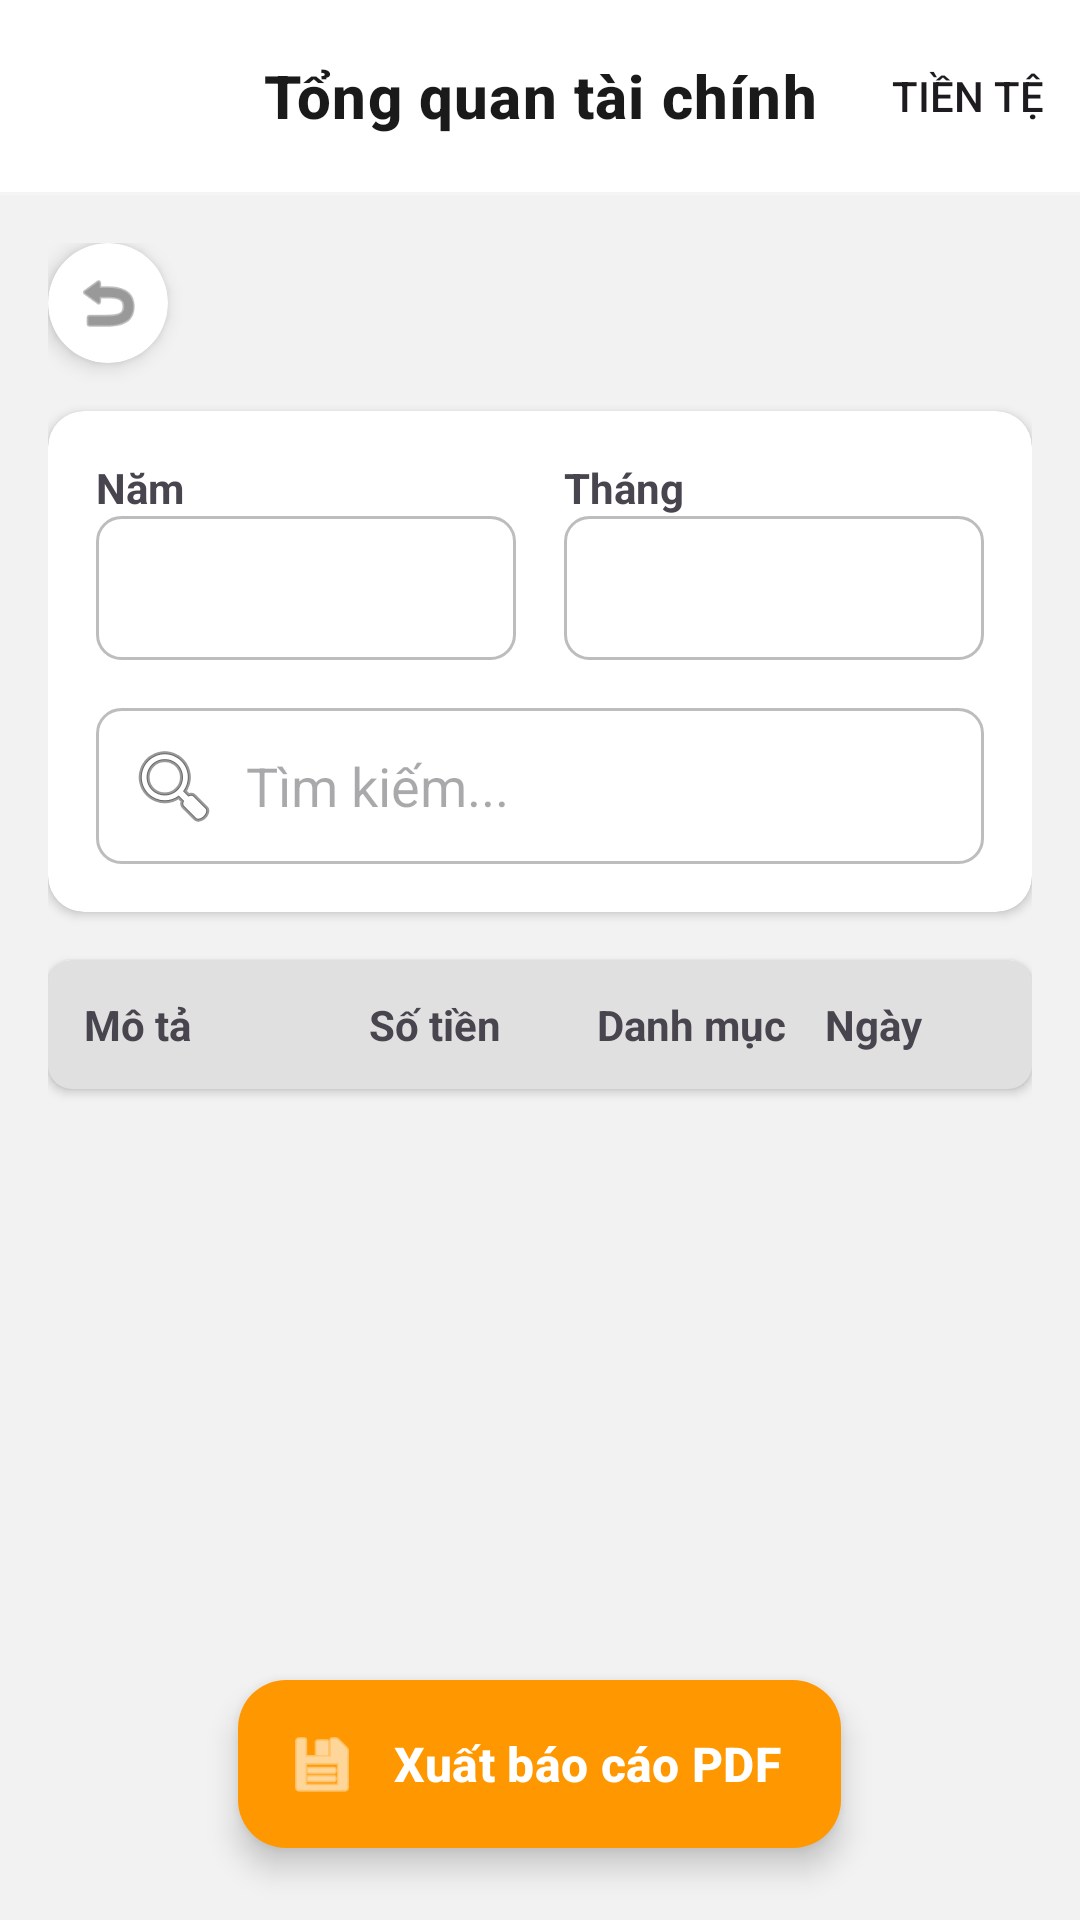

Locate icon controls on the screen. Image size 1080×1920, boxes as (x1, y1, x2, y2).
Quay lại: (48, 243, 168, 363)
